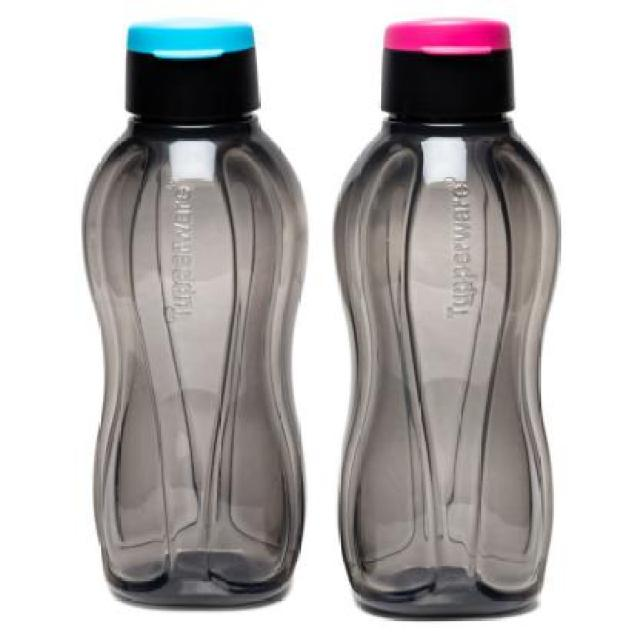Drinking: (341, 5, 576, 638), (91, 12, 311, 623)
